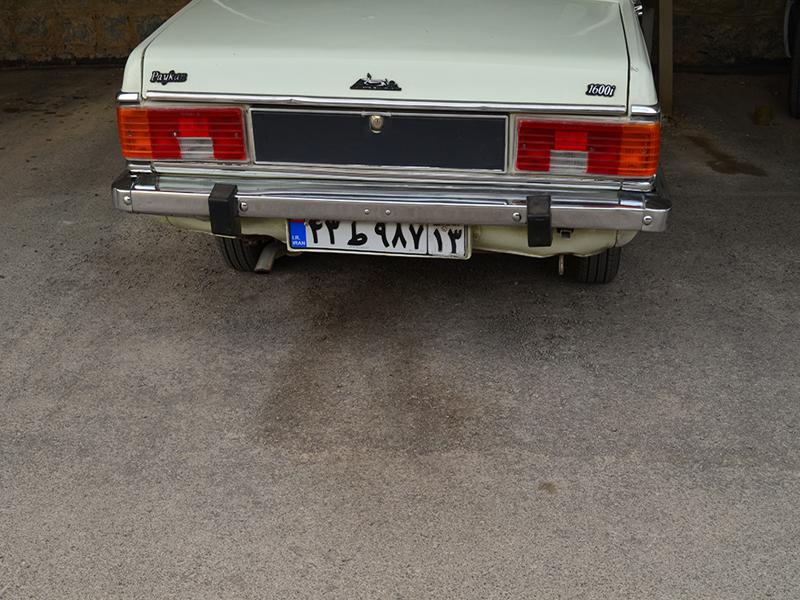Plate: (280, 210, 494, 273)
